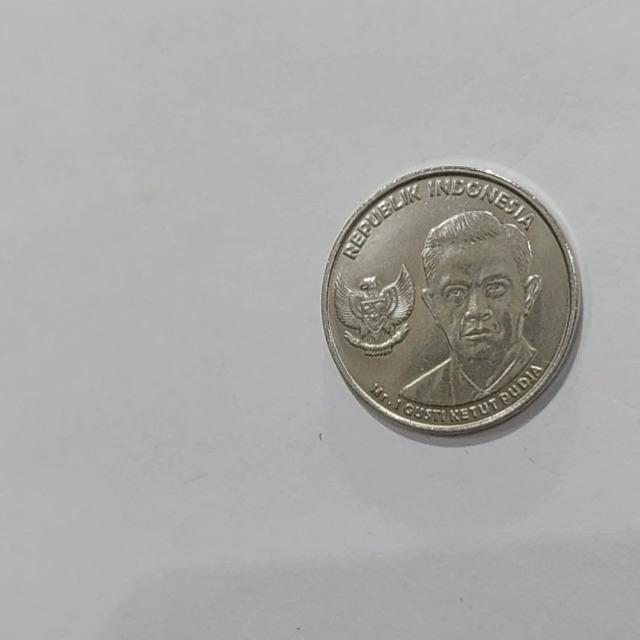Rp100: (321, 163, 583, 440), (393, 206, 546, 413)
